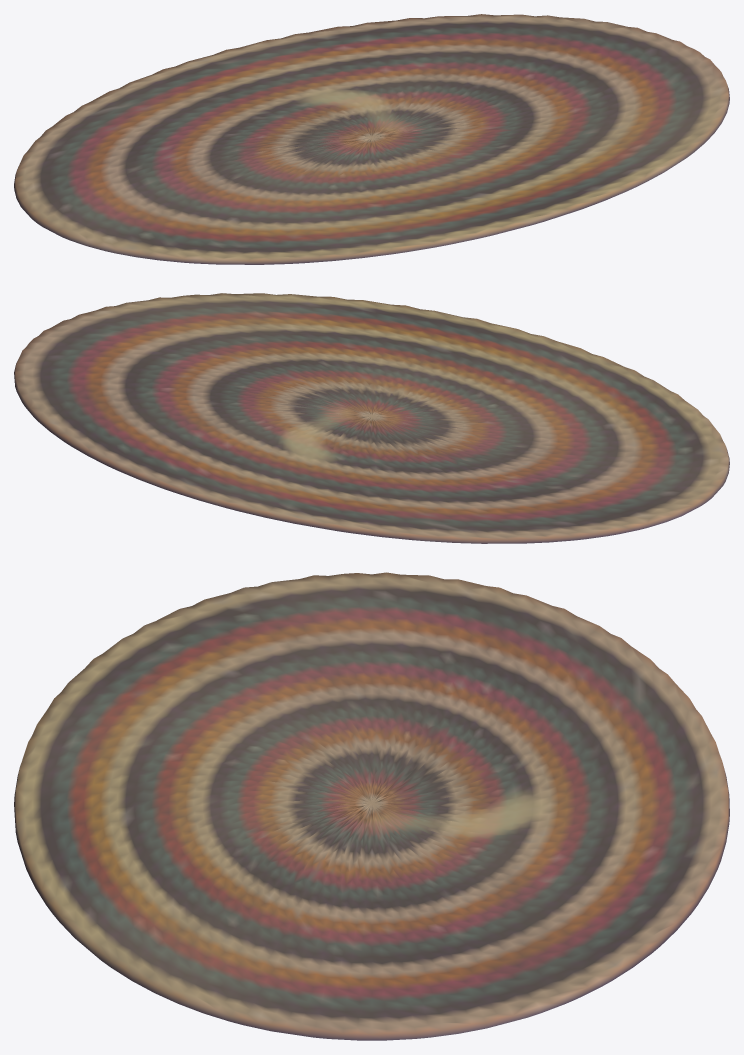
Rendered from hasir_kilim.glb.
3 renders of one model, top to bottom at view 1: azimuth 30°, elevation 25°; view 2: azimuth 150°, elevation 25°; view 3: azimuth 270°, elevation 25°, orthographic. The views are drawn at different scales.
Parts seen in each view (by area): view 1: hasir_kilim_LOD0; view 2: hasir_kilim_LOD0; view 3: hasir_kilim_LOD0.
Part boxes in pixels (x1,y1,x2,y2): hasir_kilim_LOD0: (14, 14, 729, 264); hasir_kilim_LOD0: (14, 293, 729, 543); hasir_kilim_LOD0: (14, 572, 729, 1040).
Size of what is drawn, in the model's own units: 2.61 by 0.0179 by 1.71.
